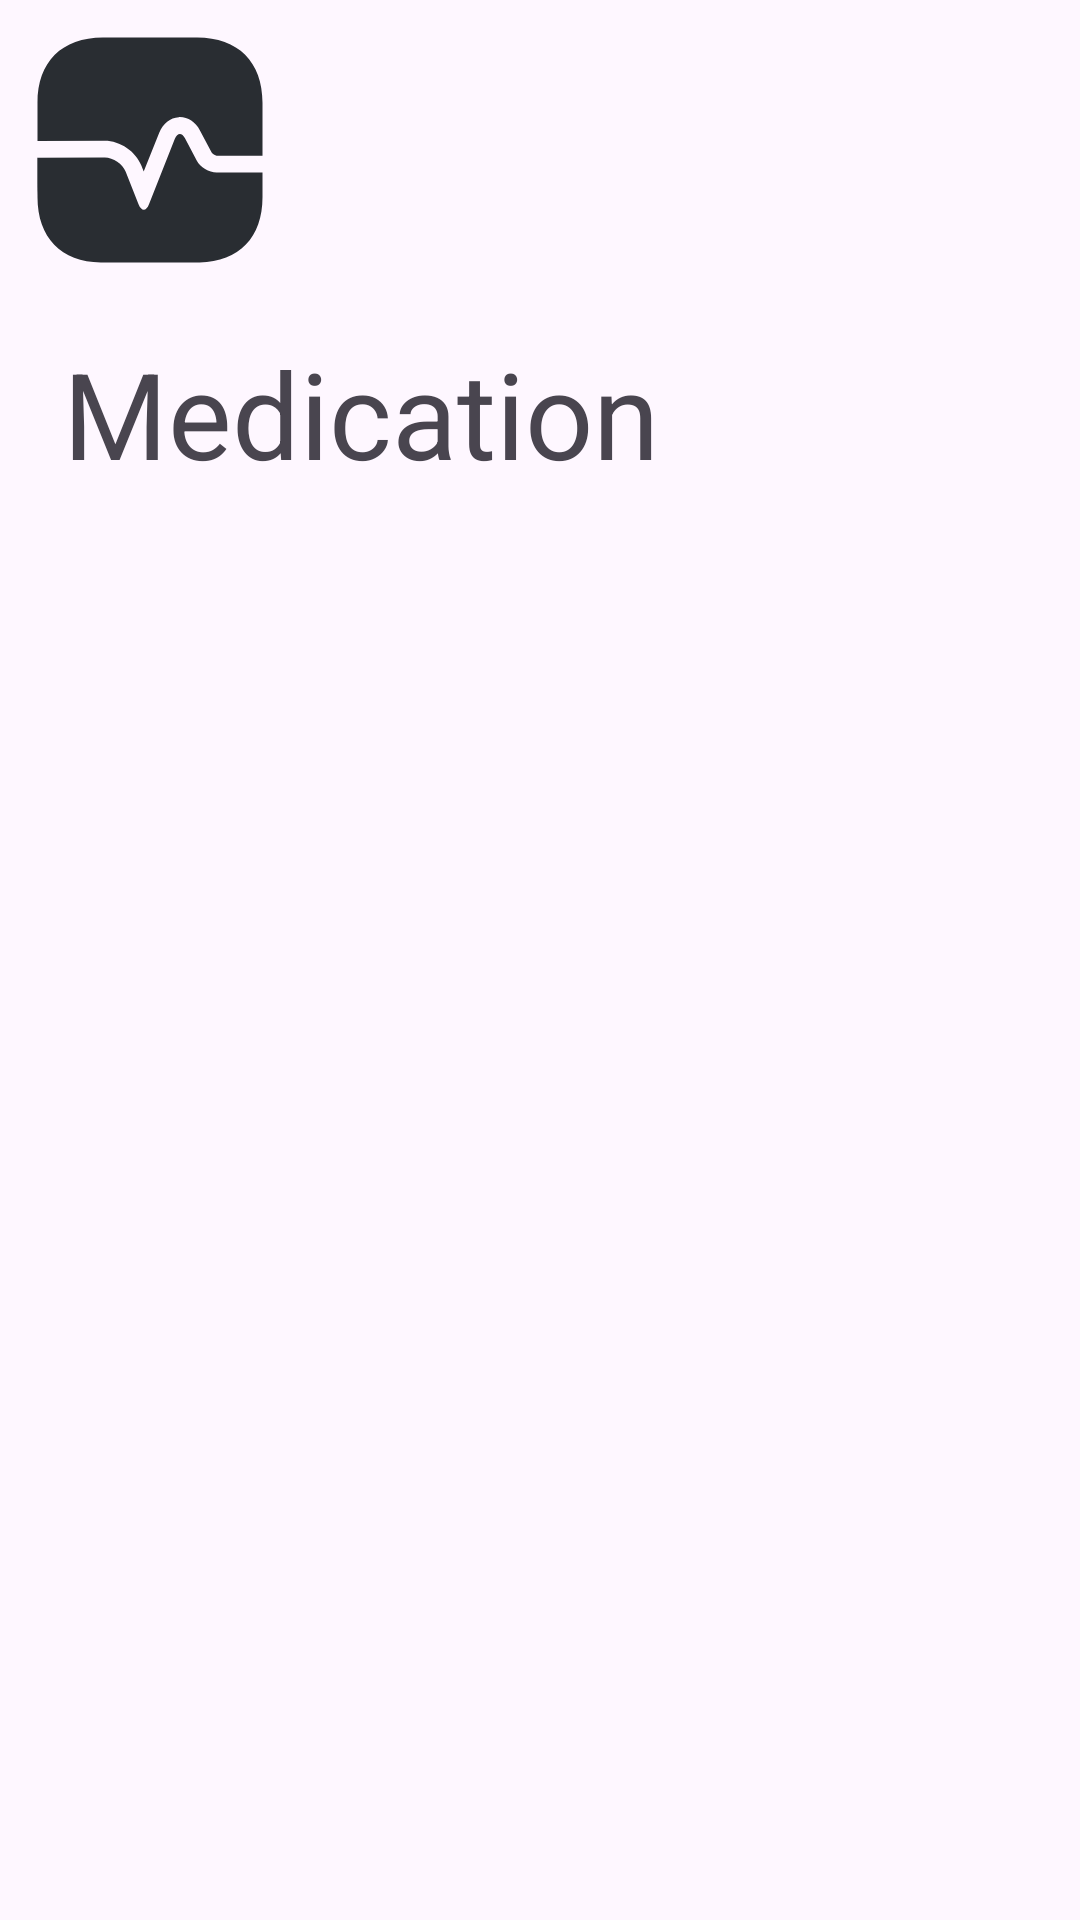

Icon click points for this 1080w x 1920h phone screenshot, format point (x, y):
health: point (150, 150)
